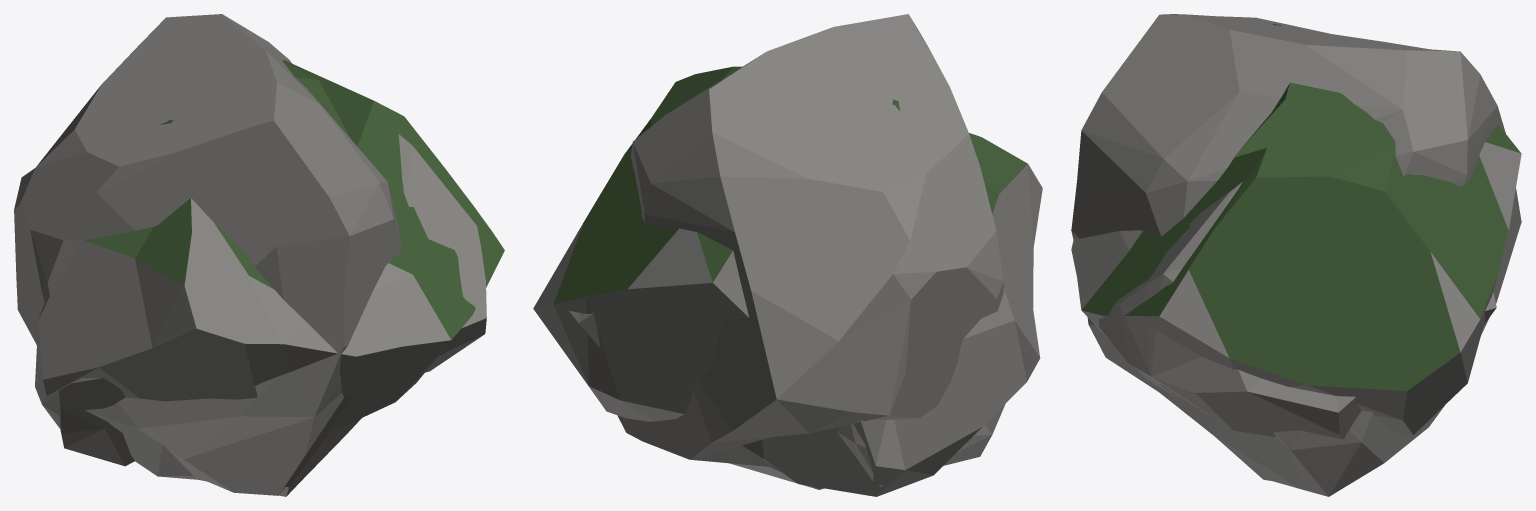
File: rocks.fbx
The picture shows the model from 3 angles, left to right: view 1: azimuth 30°, elevation 25°; view 2: azimuth 150°, elevation 25°; view 3: azimuth 270°, elevation 25°; orthographic projection. The views are drawn at different scales.
Visible parts, largest first — view 1: Rock, Rock.001, Cylinder; view 2: Rock, Rock.001, Cylinder; view 3: Rock.001, Rock, Cylinder.
Part boxes in pixels (box(x1,y1,x2,y2)): Rock: box(14, 14, 401, 496); Rock.001: box(35, 60, 504, 434); Cylinder: box(59, 134, 486, 466); Rock: box(617, 14, 1003, 489); Rock.001: box(533, 66, 1042, 496); Cylinder: box(569, 310, 1005, 487); Rock.001: box(1071, 24, 1521, 434); Rock: box(1071, 14, 1521, 496); Cylinder: box(1099, 182, 1496, 439).
Size of the model in its own units: 296 by 296 by 276.
